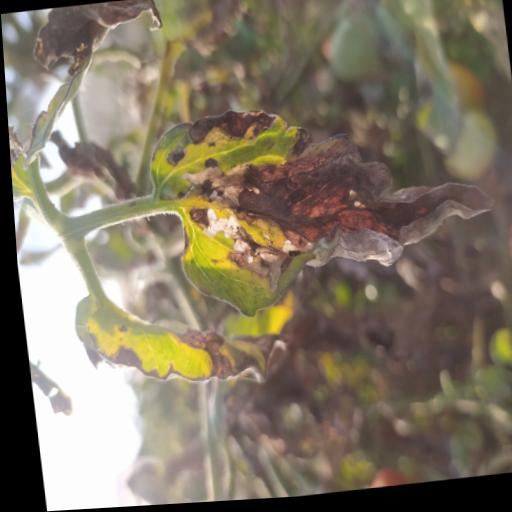Early Blight: (139, 82, 501, 329), (66, 278, 285, 403)
